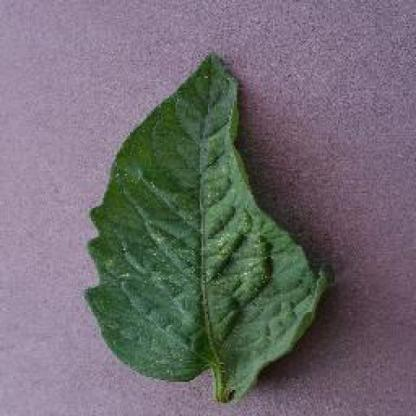Tomato_Spider_Mites: (86, 52, 322, 388)
